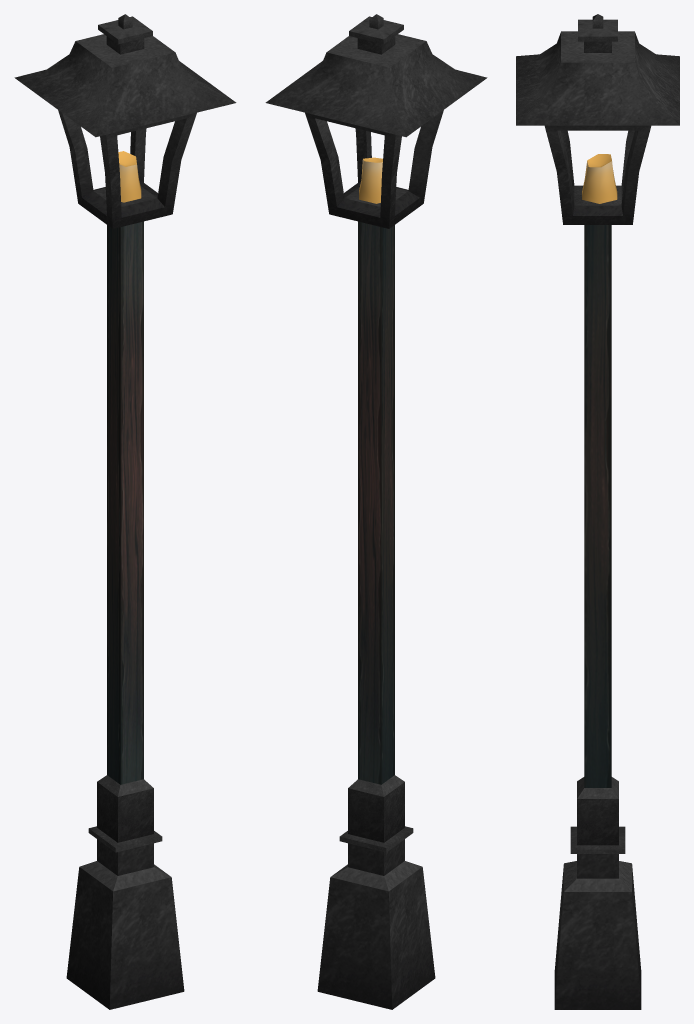
The model's file is Lamp1.fbx.
3 renders of one model, left to right at view 1: azimuth 30°, elevation 25°; view 2: azimuth 150°, elevation 25°; view 3: azimuth 270°, elevation 25°, orthographic.
Parts seen in each view (by area): view 1: Lamp_01; view 2: Lamp_01; view 3: Lamp_01.
Boxes of the visible parts, x1=… form: Lamp_01: x1=14, y1=14, x2=236, y2=1009; Lamp_01: x1=265, y1=14, x2=487, y2=1009; Lamp_01: x1=516, y1=14, x2=679, y2=1009.
Bounding box in the file's own units: 70.65 × 465 × 70.65.
